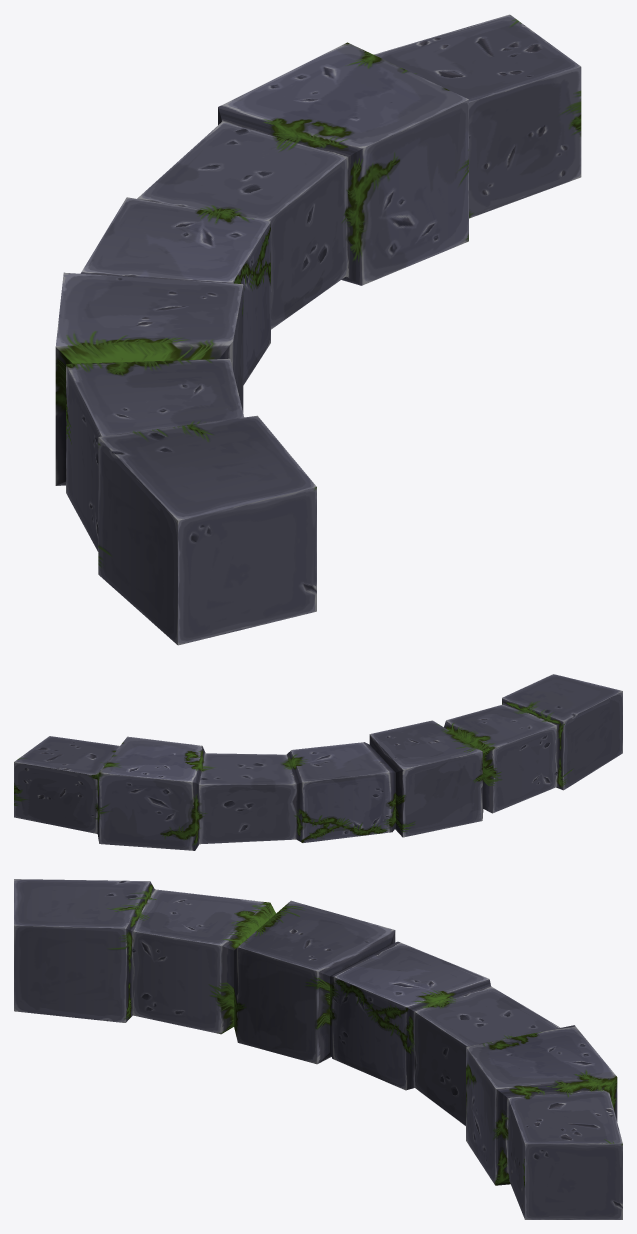
File: MOD_WallCover_01_M_concave.fbx
3 renders of one model, top to bottom at view 1: azimuth 30°, elevation 25°; view 2: azimuth 150°, elevation 25°; view 3: azimuth 270°, elevation 25°, orthographic. The views are drawn at different scales.
Visible parts, largest first — view 1: MOD_WallCover_01_M_concave; view 2: MOD_WallCover_01_M_concave; view 3: MOD_WallCover_01_M_concave.
Part boxes in pixels (x1,y1,x2,y2): MOD_WallCover_01_M_concave: [55, 14, 581, 645]; MOD_WallCover_01_M_concave: [14, 674, 622, 850]; MOD_WallCover_01_M_concave: [14, 879, 622, 1219].
Size of what is drawn, in the model's own units: 439 by 76.86 by 435.
